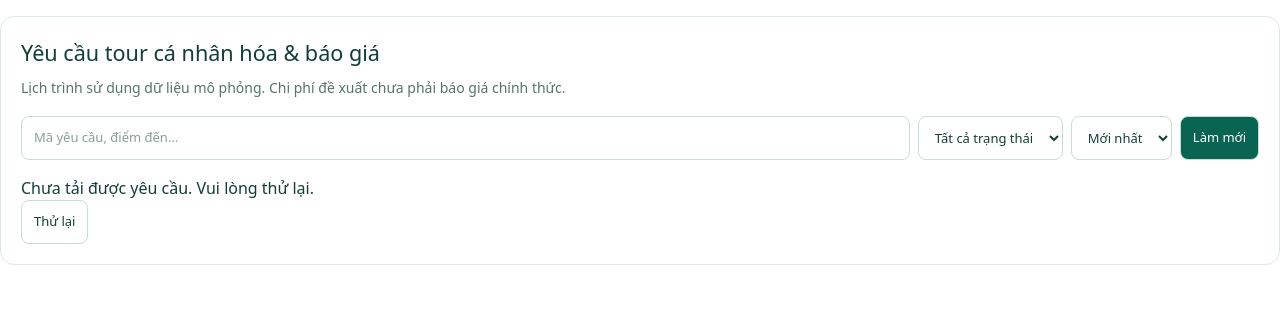
Test case: shows a retryable failure rather than an empty request list
Expected: the message shows "Chưa tải được", left=21, top=177, right=314, bottom=199
Step 1. Click the button "Thử lại" → (55, 222), box left=21, top=200, right=88, bottom=244
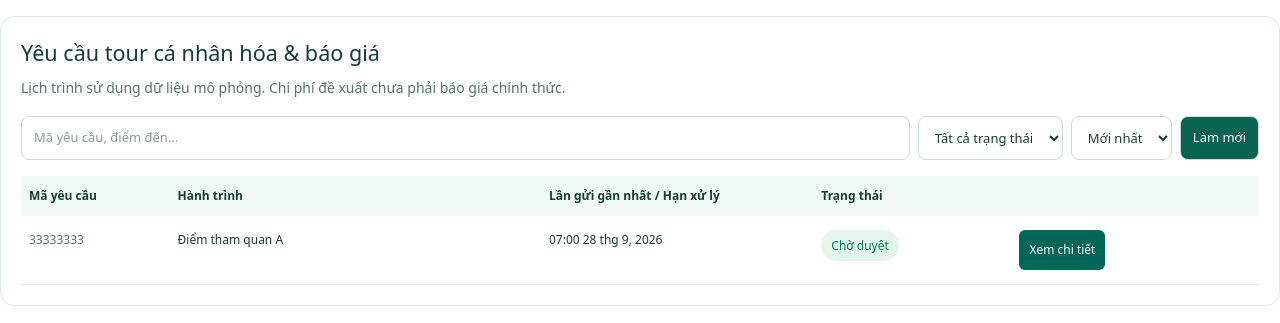
Expected: the text "Chờ duyệt" is shown, left=821, top=230, right=899, bottom=261
